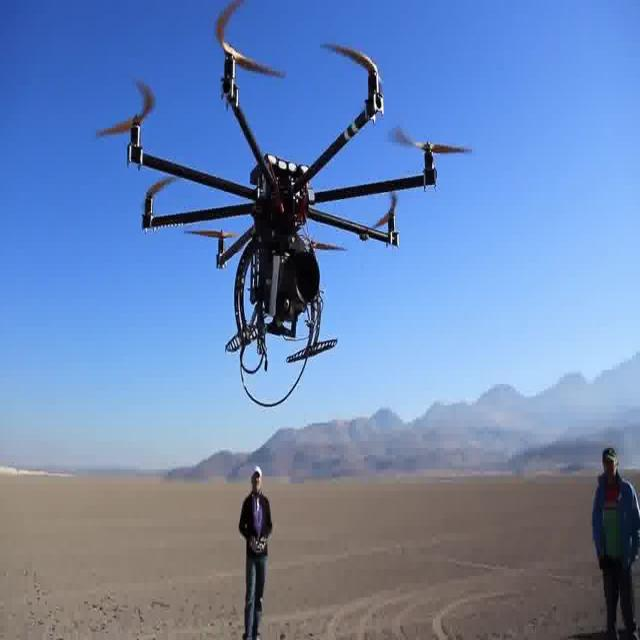drone: (93, 0, 475, 368)
